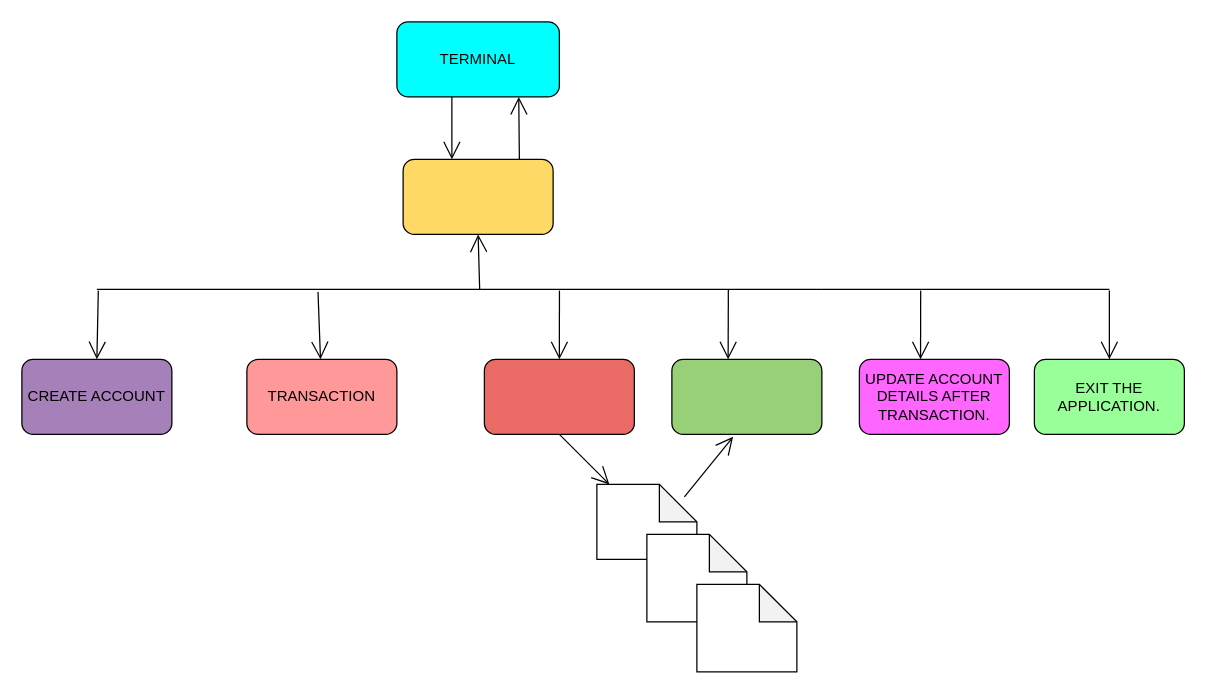
The diagram is 1206 pixels wide and 694 high, and some of its shapes have lost their labels. The shapes that lost their labels are listed below. From the top down, each one's centre as x and y in pixels, then its label:
At [477,196]: "MENU".
At [558,396]: "SAVE TO FILE".
At [746,396]: "READ FROM FILE".
